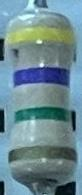Blue: (14, 70, 70, 85)
Green: (15, 108, 71, 122)
Side-Silver: (9, 149, 77, 164)
Yellow: (7, 30, 73, 44)
